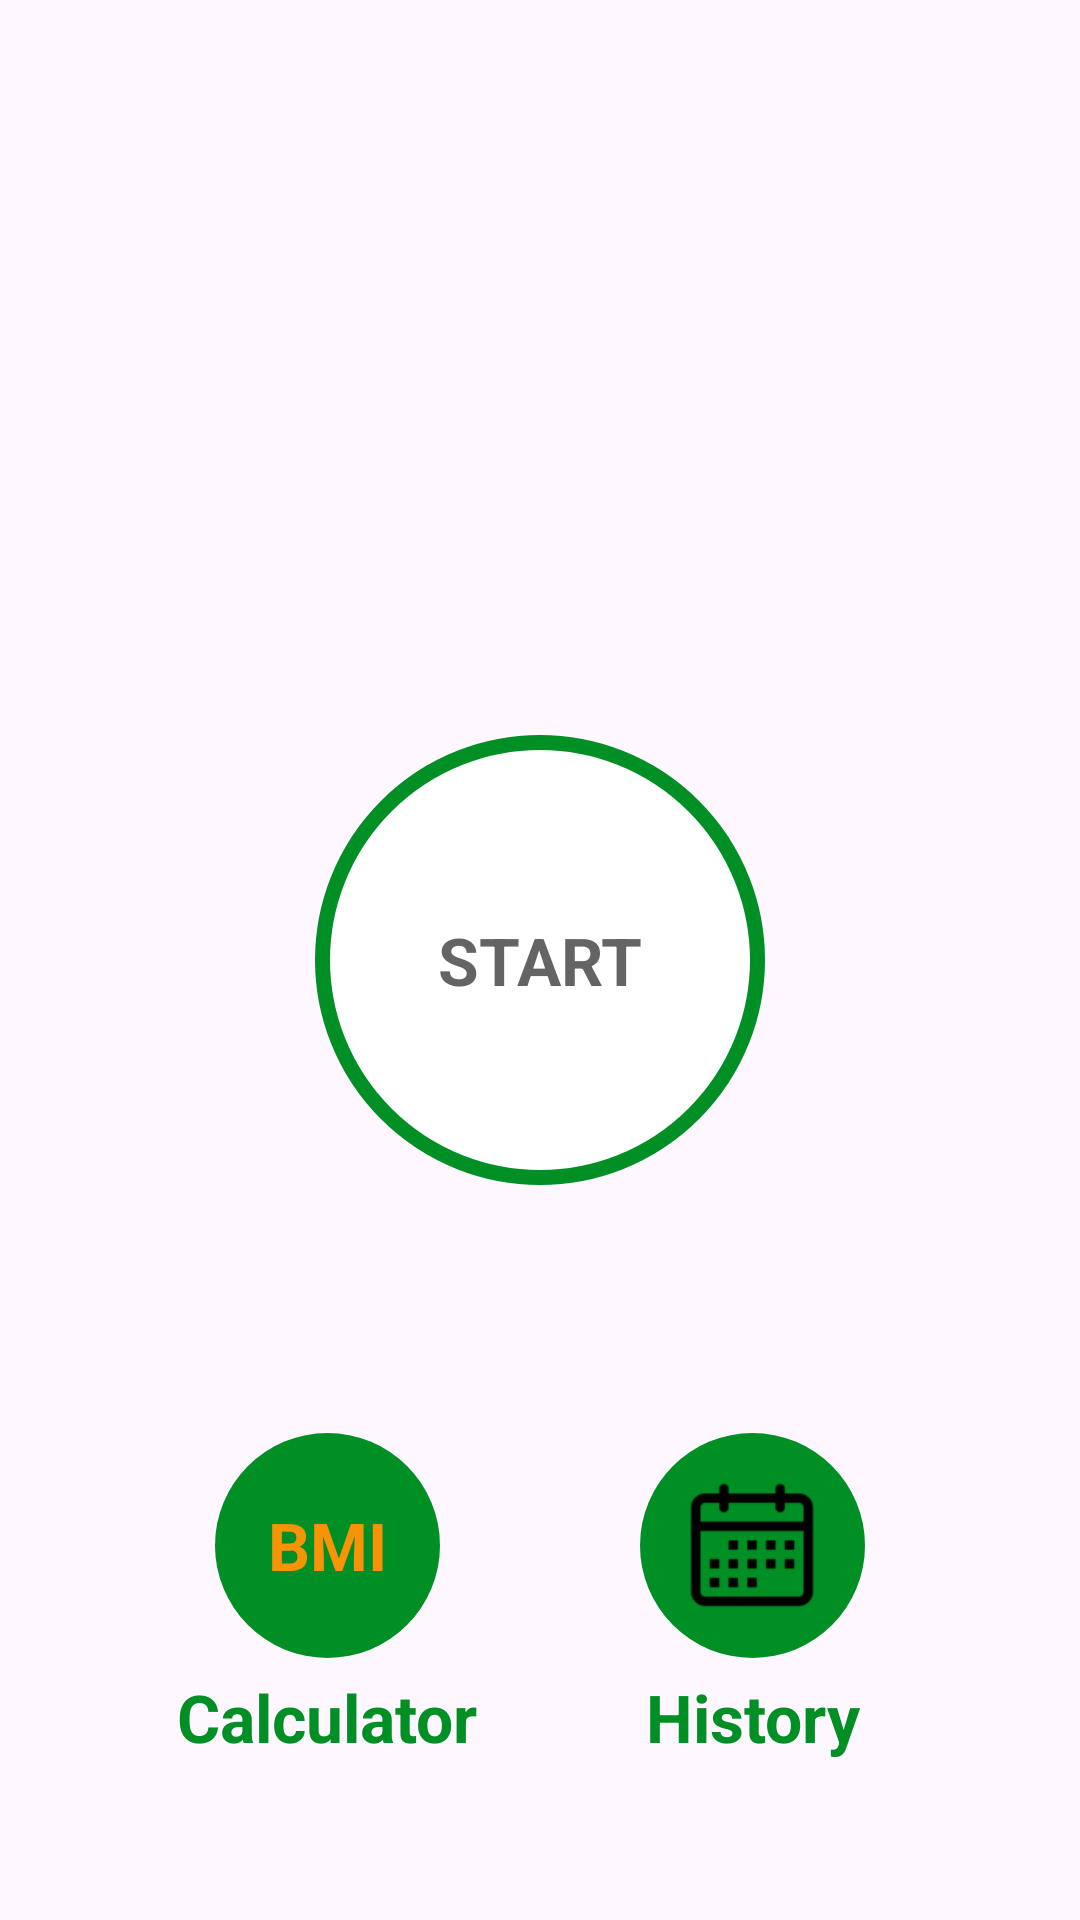

Point at icon controls on the screen. Image size 1080 x 1920, points as point (x, y).
calendar: point (752, 1545)
